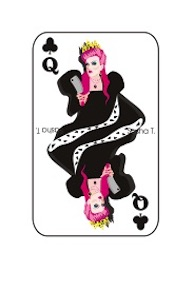QueenOfClubs: (27, 28, 162, 241)
